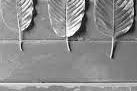kratom: (91, 0, 136, 65), (0, 0, 42, 61), (47, 0, 88, 54)
